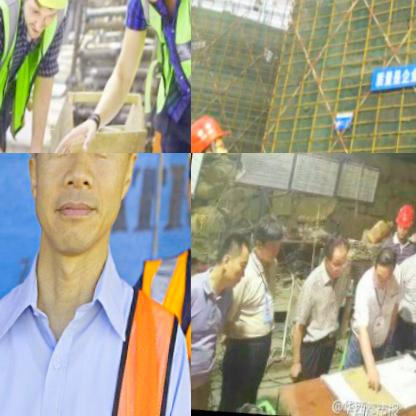helmet: (0, 153, 170, 300), (14, 0, 80, 47), (191, 107, 240, 153), (390, 204, 416, 243)
